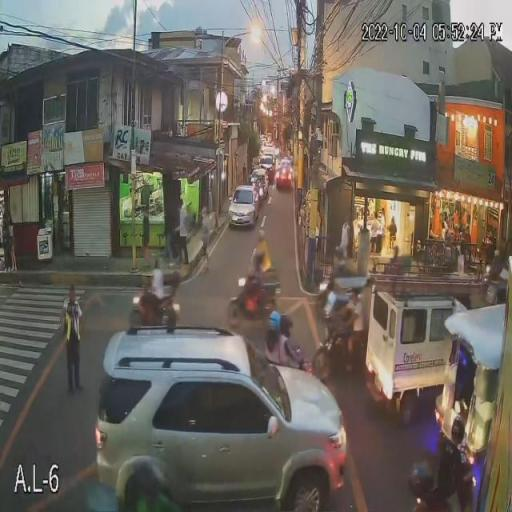helmet: (450, 417, 466, 445), (266, 310, 282, 334), (280, 312, 293, 340), (250, 249, 266, 268), (148, 253, 162, 269)
motorcycle: (436, 452, 474, 512), (228, 273, 266, 324), (128, 294, 180, 327)
rider: (440, 444, 462, 489), (146, 271, 164, 317), (280, 336, 301, 367), (263, 333, 282, 364), (252, 264, 262, 309)
